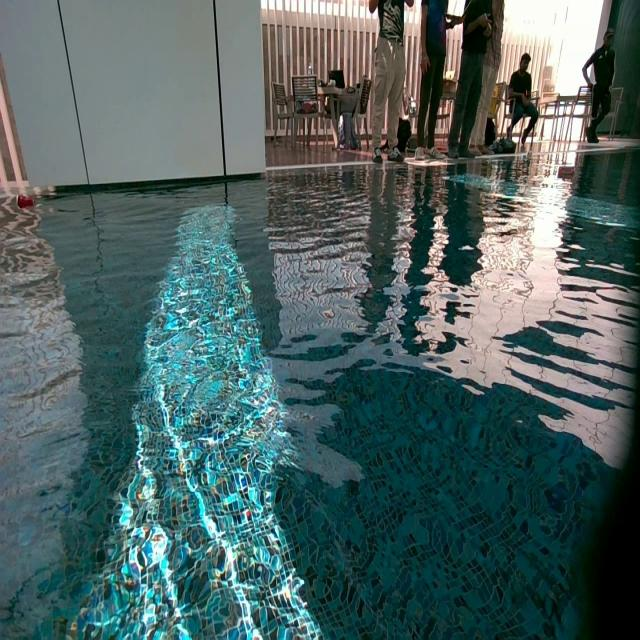Cans: (18, 193, 37, 210), (557, 162, 576, 178)
